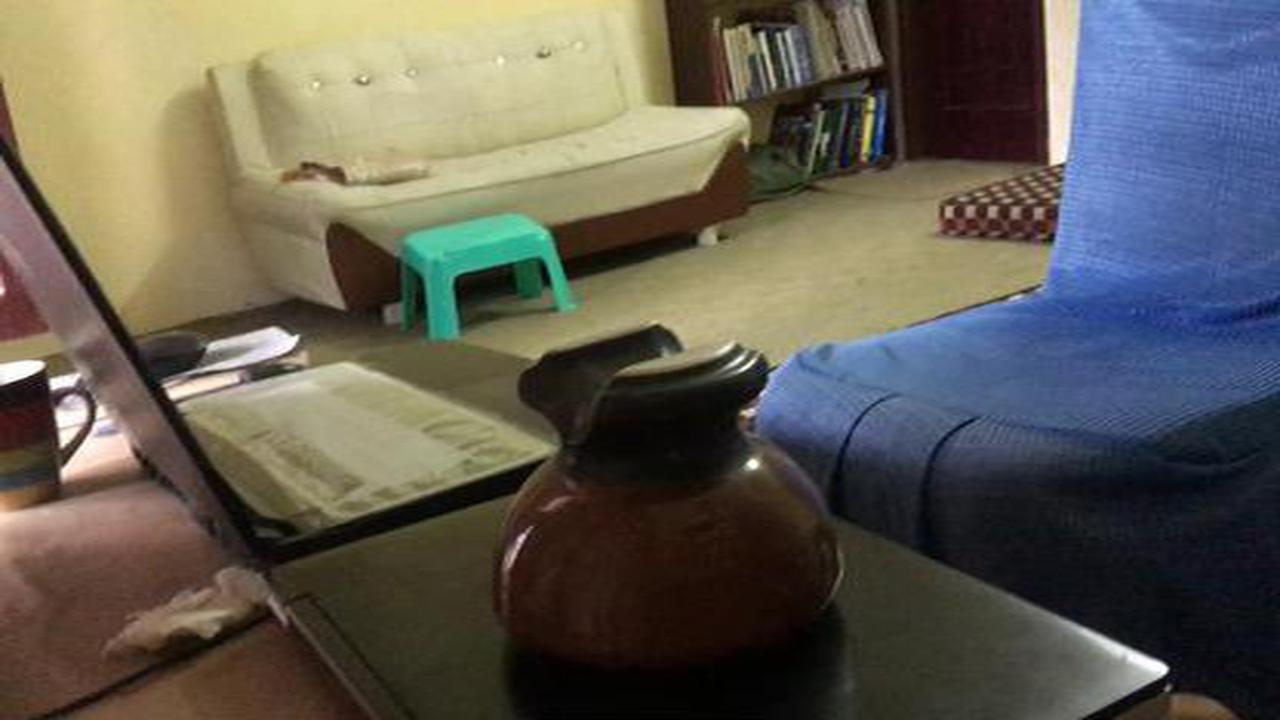insulator_pin: (477, 315, 868, 686)
